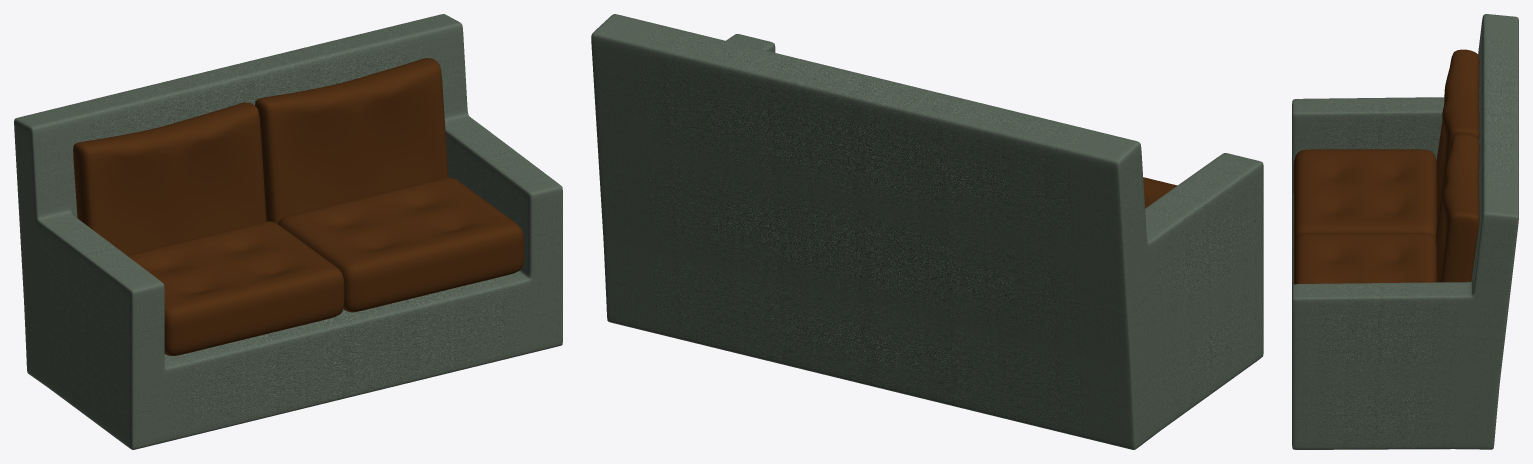
Rendered from sofa.glb.
The picture shows the model from 3 angles, left to right: view 1: azimuth 30°, elevation 25°; view 2: azimuth 150°, elevation 25°; view 3: azimuth 270°, elevation 25°; orthographic projection. The views are drawn at different scales.
Visible parts, largest first — view 1: Cube, Plane.002, Plane.003, Plane, Plane.001; view 2: Cube; view 3: Cube, Plane.001, Plane, Plane.002, Plane.003.
Boxes of the visible parts, x1,y1,x2,y2 form: Cube: (14,14,562,449); Plane.002: (255,58,448,223); Plane.003: (73,102,266,254); Plane: (278,177,523,312); Plane.001: (127,221,344,355); Cube: (591,14,1263,449); Cube: (1292,14,1518,449); Plane.001: (1293,149,1436,248); Plane: (1293,233,1436,284); Plane.002: (1436,134,1479,282); Plane.003: (1436,49,1479,243).
Size of the model in its own units: 1.55 by 0.8589 by 0.7438.
Materials: 2 (2 with a texture image).
